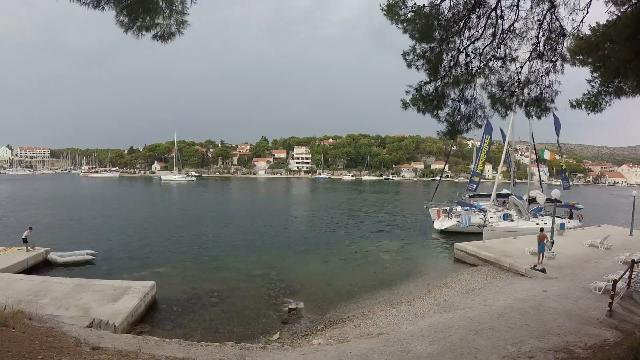Sailboat: (156, 170, 204, 184)
